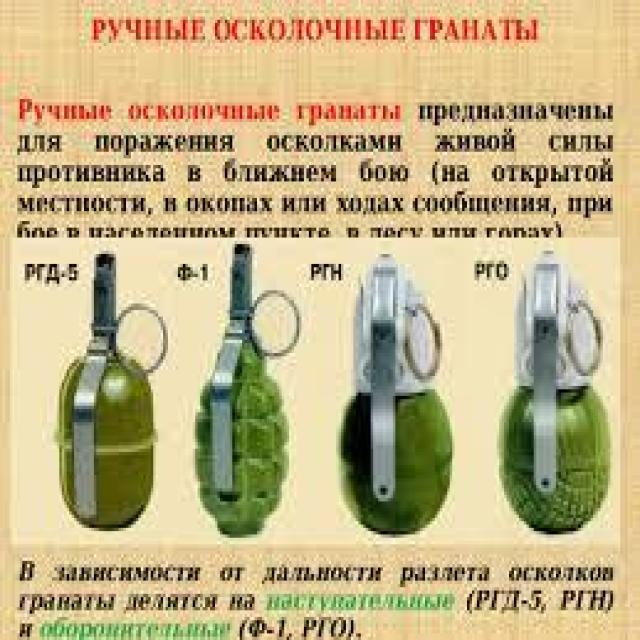grenade: (335, 256, 463, 539), (498, 247, 611, 538), (53, 251, 169, 534), (195, 243, 299, 536)
